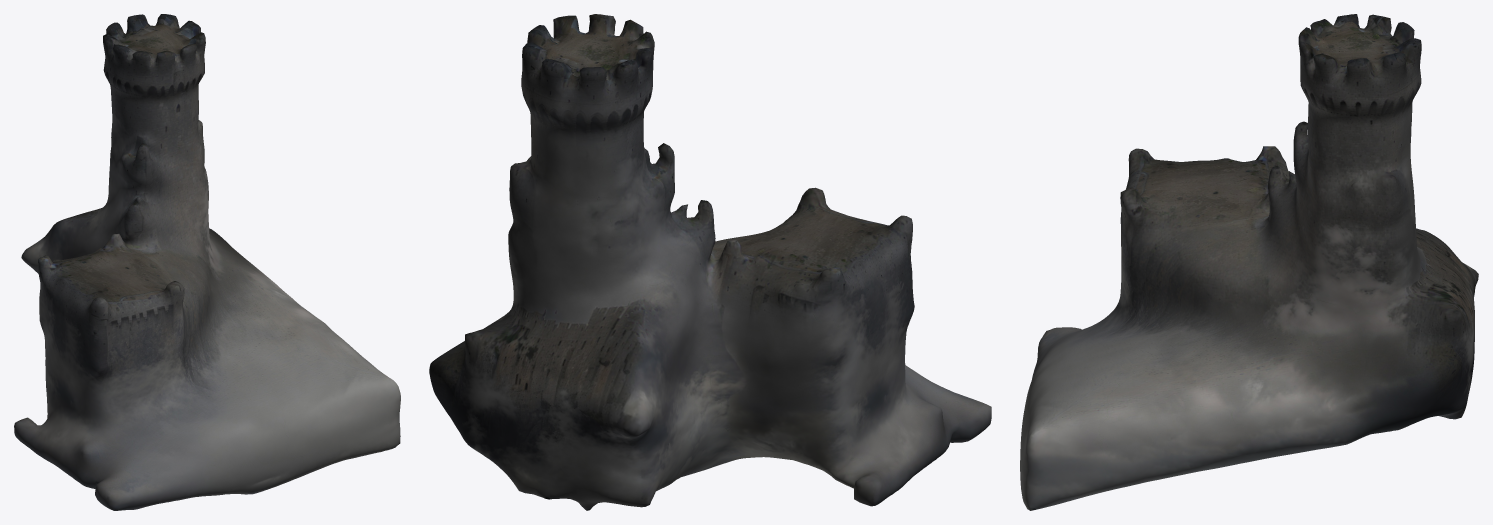
File: tJny_uDJr1k_0424202348.glb
The picture shows the model from 3 angles, left to right: view 1: azimuth 30°, elevation 25°; view 2: azimuth 150°, elevation 25°; view 3: azimuth 270°, elevation 25°; orthographic projection. The views are drawn at different scales.
Bounding box in the file's own units: 1.03 × 1.2 × 1.15.
Materials: 1 (1 with a texture image).
